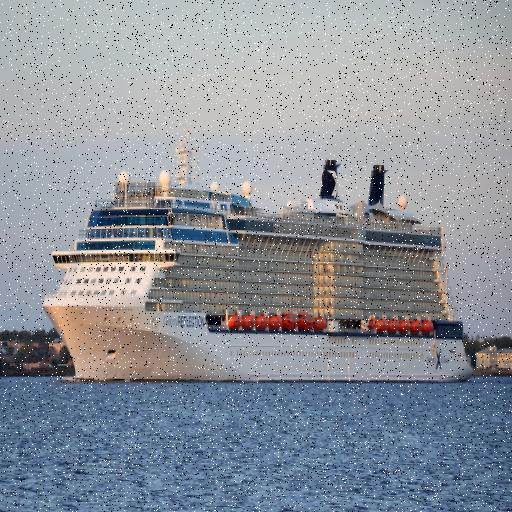cruises: (35, 122, 478, 389)
